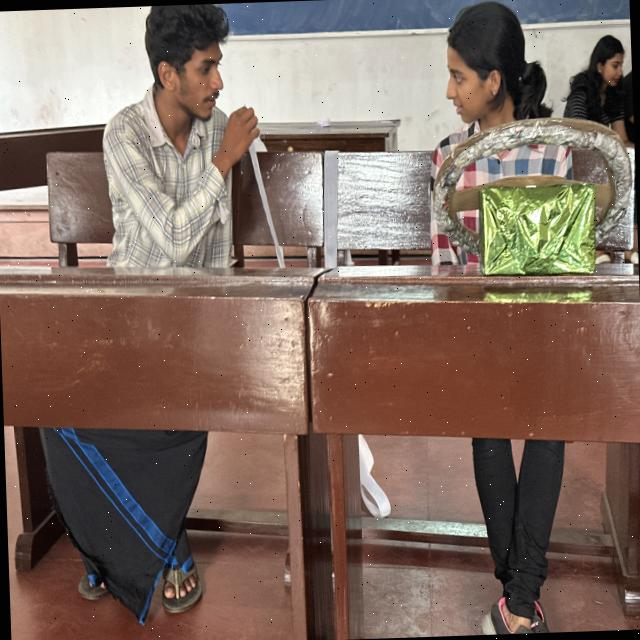no-seatbelt: (80, 70, 286, 340), (412, 100, 630, 331)
